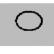no answer: (14, 10, 44, 32)
